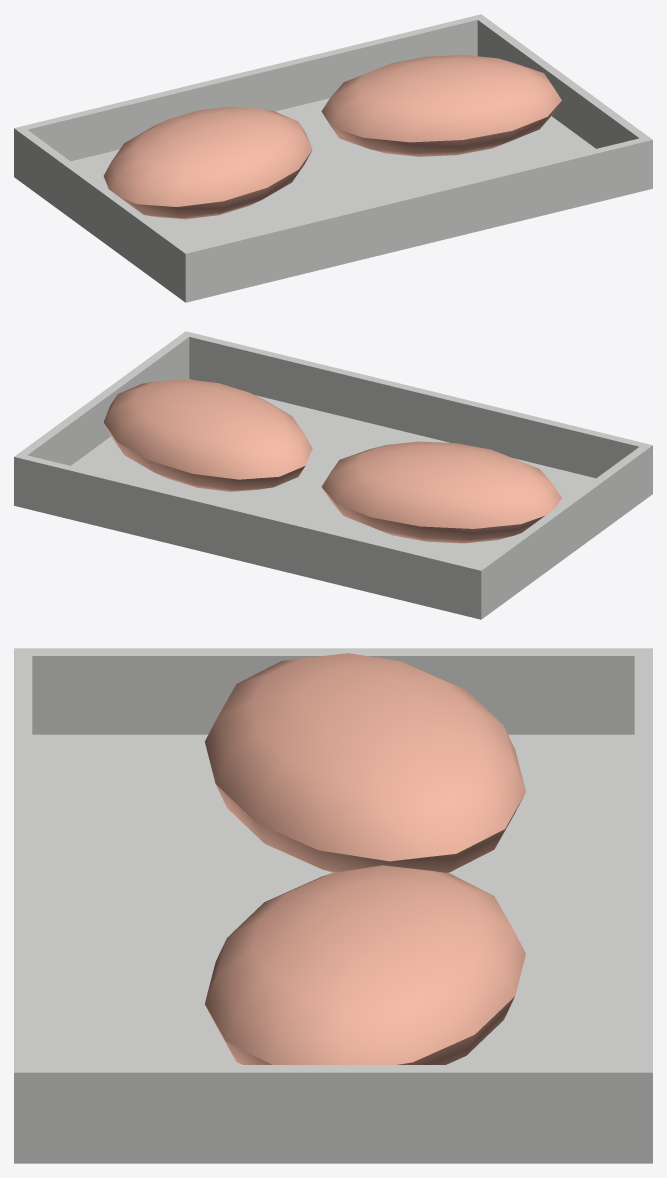
The model's file is Chicken_Breast.fbx.
The picture shows the model from 3 angles, top to bottom: view 1: azimuth 30°, elevation 25°; view 2: azimuth 150°, elevation 25°; view 3: azimuth 270°, elevation 25°; orthographic projection. The views are drawn at different scales.
Visible parts, largest first — view 1: Chicken_Breast; view 2: Chicken_Breast; view 3: Chicken_Breast.
Boxes of the visible parts, left/top/right/bottom form: Chicken_Breast: left=14, top=14, right=652, bottom=302; Chicken_Breast: left=14, top=331, right=652, bottom=619; Chicken_Breast: left=14, top=648, right=652, bottom=1163.
Bounding box in the file's own units: 0.22 × 0.035 × 0.14.
